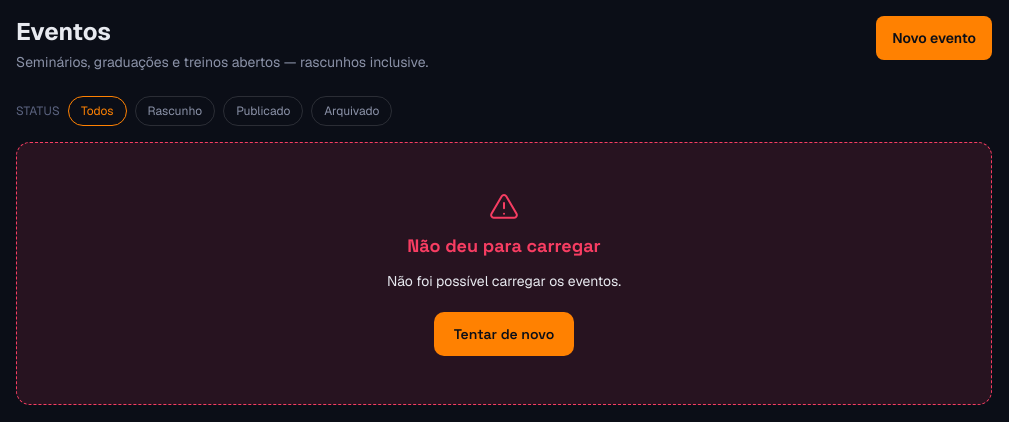
Scenario: AdminEventsPage — empty, loading and failure › lets the admin retry without leaving the page
What coordinates should you click on to do the following:
click the button "Tentar de novo"
I would click on:
 (504, 334)
Its box is [434, 312, 574, 356].
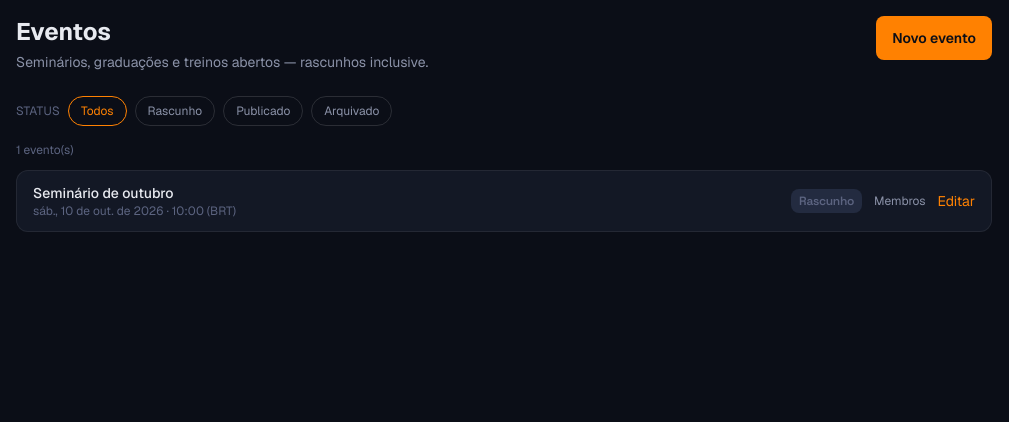
Check: the text "Seminário de outubro" is shown, box [33, 184, 174, 202]
Check: the message "Não deu para carregar Não foi possível carregar os eventos. Tentar de novo" is gone
